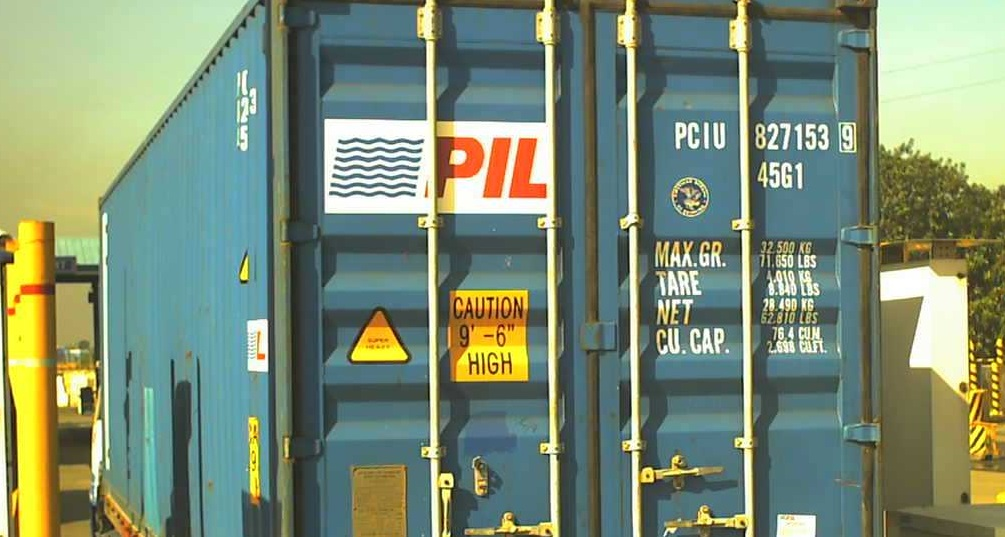container_door: (272, 2, 876, 537)
